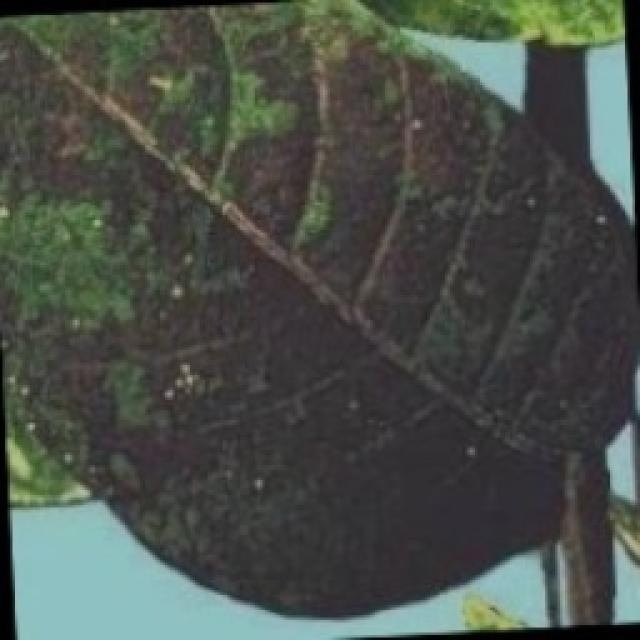Sooty Mold: (0, 0, 637, 622)
